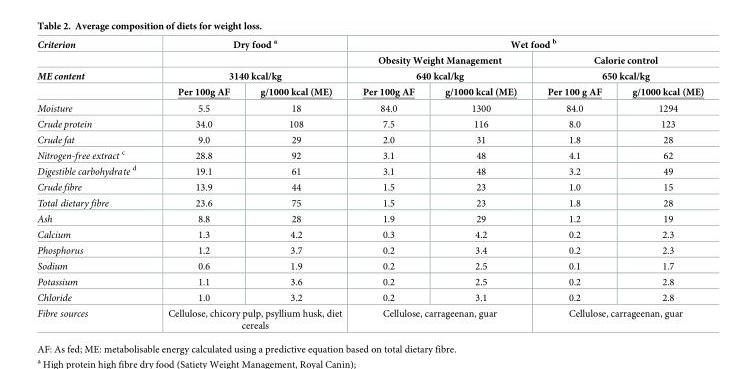table: (36, 37, 703, 330)
table column: (36, 37, 151, 330), (244, 37, 351, 330), (429, 37, 531, 330), (151, 37, 244, 330), (616, 37, 703, 330), (531, 37, 616, 330), (351, 37, 429, 330)
table column header: (36, 37, 703, 99)
table row: (36, 305, 703, 330), (36, 67, 703, 84), (36, 99, 703, 115), (36, 115, 703, 131), (36, 131, 703, 147), (36, 162, 703, 178), (36, 178, 703, 194), (36, 194, 703, 210), (36, 210, 703, 226), (36, 226, 703, 242), (36, 257, 703, 273), (36, 273, 703, 289), (36, 289, 703, 305), (36, 37, 703, 52), (36, 52, 703, 67), (36, 84, 703, 99), (36, 147, 703, 162), (36, 242, 703, 257)
table spanning cell: (36, 37, 151, 99), (351, 52, 531, 84), (531, 52, 703, 84), (351, 37, 703, 52), (151, 305, 351, 330), (351, 305, 531, 330), (531, 305, 703, 330), (151, 67, 351, 84), (151, 37, 351, 52)
